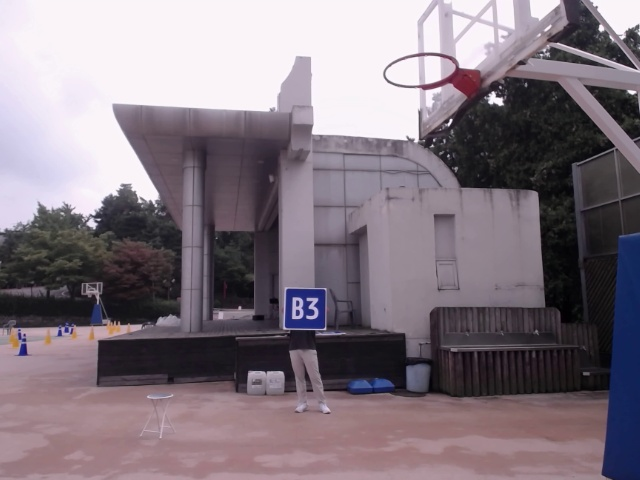delivery_b3: (285, 289, 327, 330)
